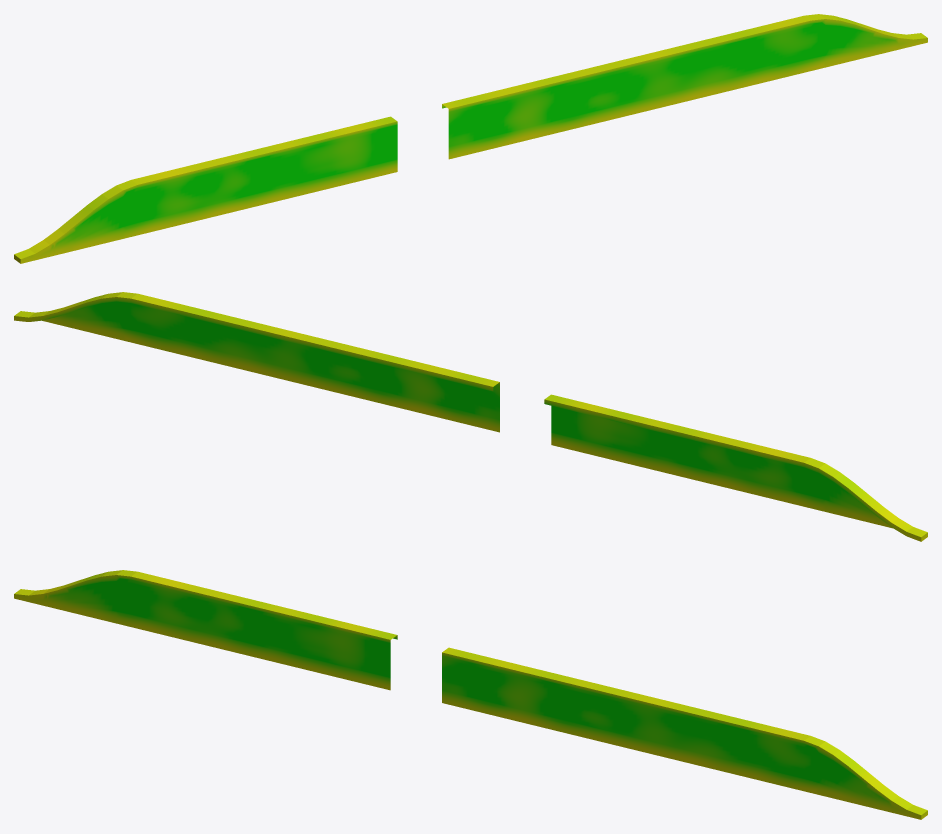
Rendered from retaining_wall.glb.
3 views of the same model, one above another, from view 1: azimuth 30°, elevation 25°; view 2: azimuth 150°, elevation 25°; view 3: azimuth 330°, elevation 25° (orthographic).
Visible parts, largest first — view 1: retaining_wall; view 2: retaining_wall; view 3: retaining_wall.
Part boxes in pixels (x1,y1,x2,y2): retaining_wall: (14, 14, 927, 263); retaining_wall: (14, 292, 927, 541); retaining_wall: (14, 570, 927, 819).
Bounding box in the file's own units: 62 × 3.3 × 0.8.
